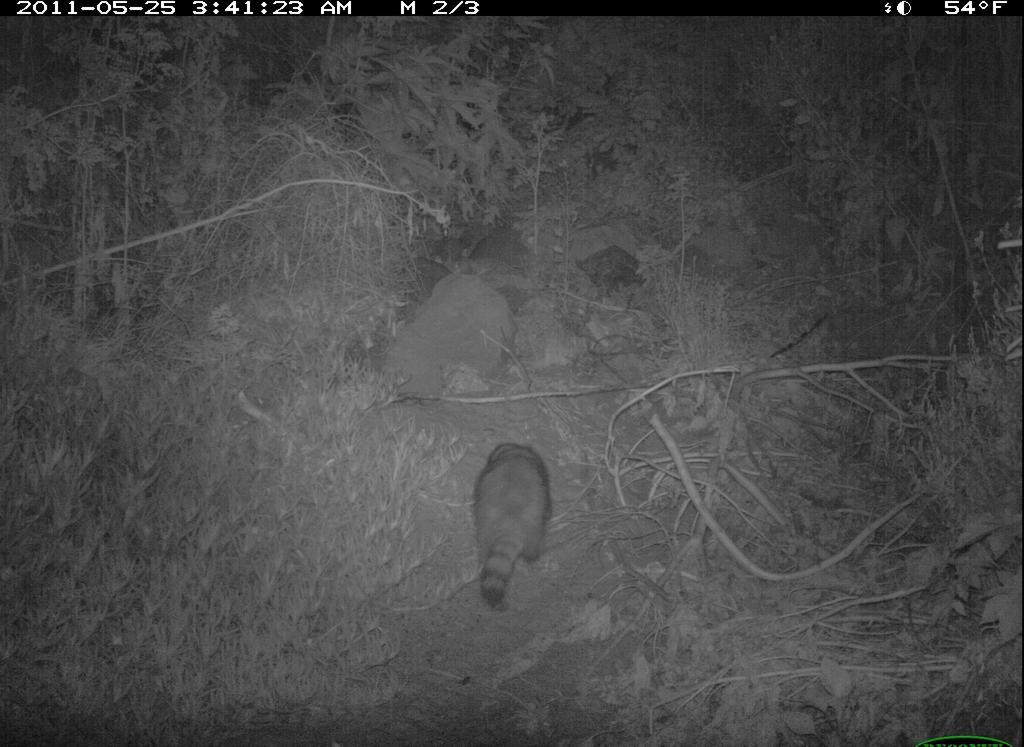raccoon: (467, 427, 563, 625)
